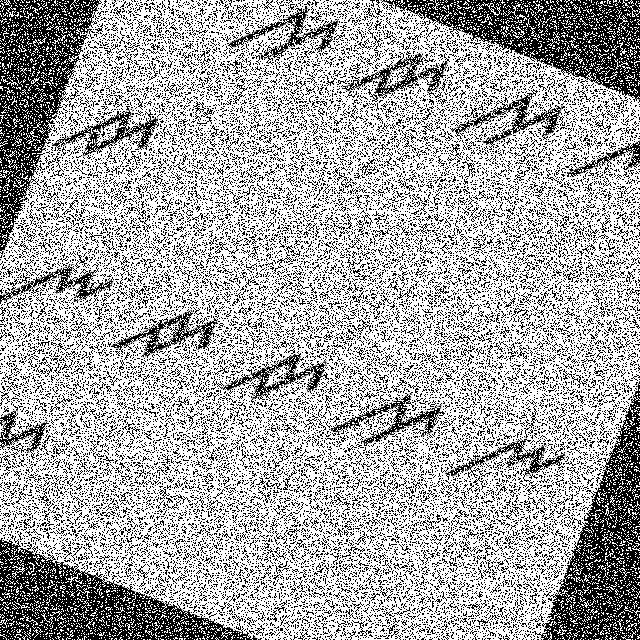ja: (214, 320, 340, 436), (106, 274, 231, 389), (48, 72, 170, 186), (336, 22, 456, 130)
nya: (438, 398, 576, 524), (0, 230, 122, 347), (564, 104, 639, 219), (98, 0, 237, 46)
sa: (326, 356, 452, 473), (448, 69, 570, 173), (218, 0, 348, 97), (0, 375, 63, 490)
